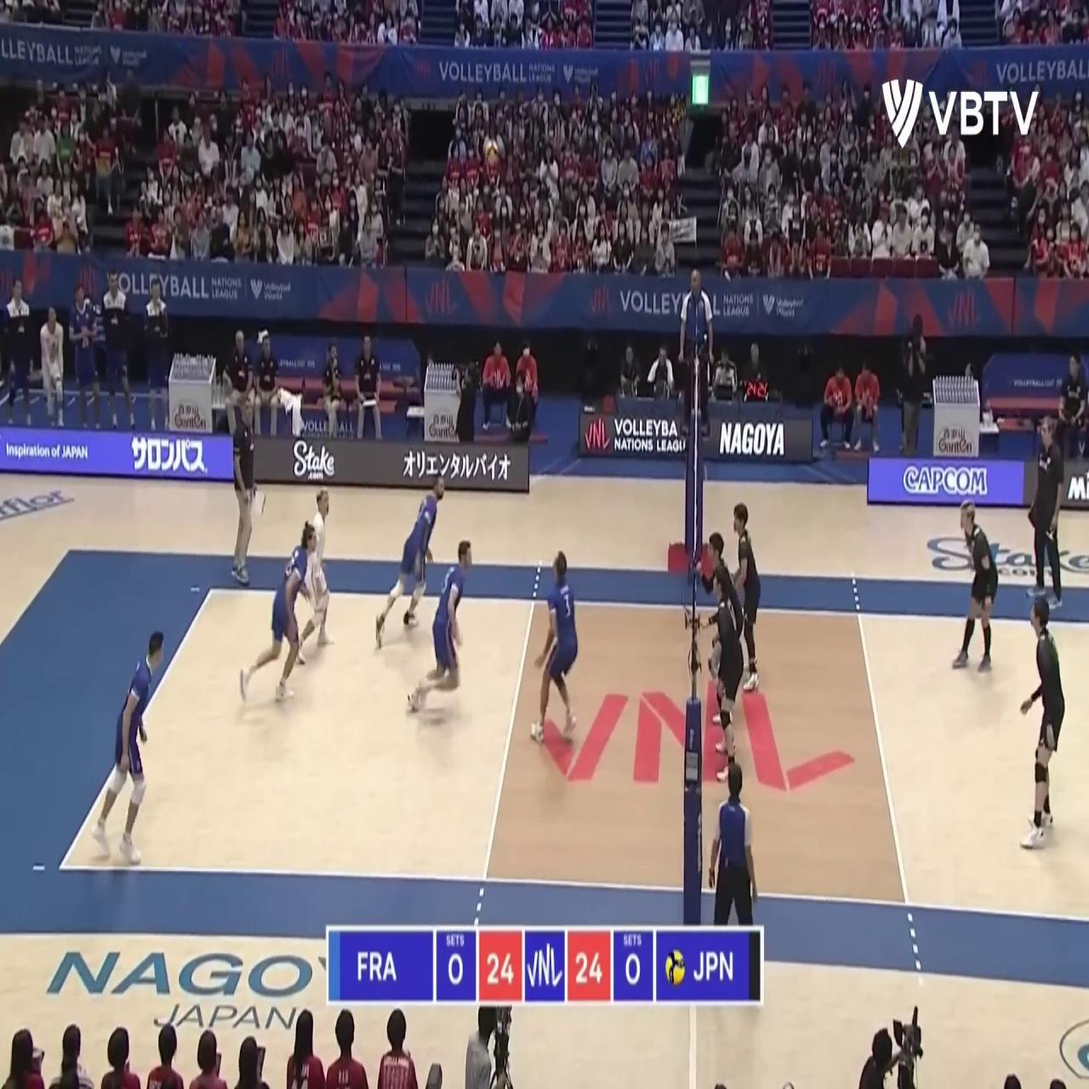ball: (486, 139, 499, 165)
